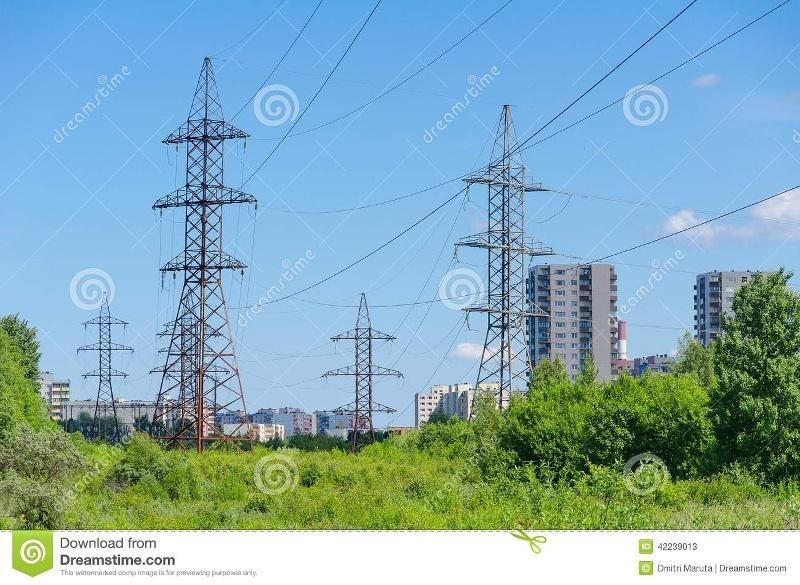power_tower: (162, 83, 259, 443), (456, 121, 554, 426), (323, 292, 394, 445), (79, 287, 131, 438)
